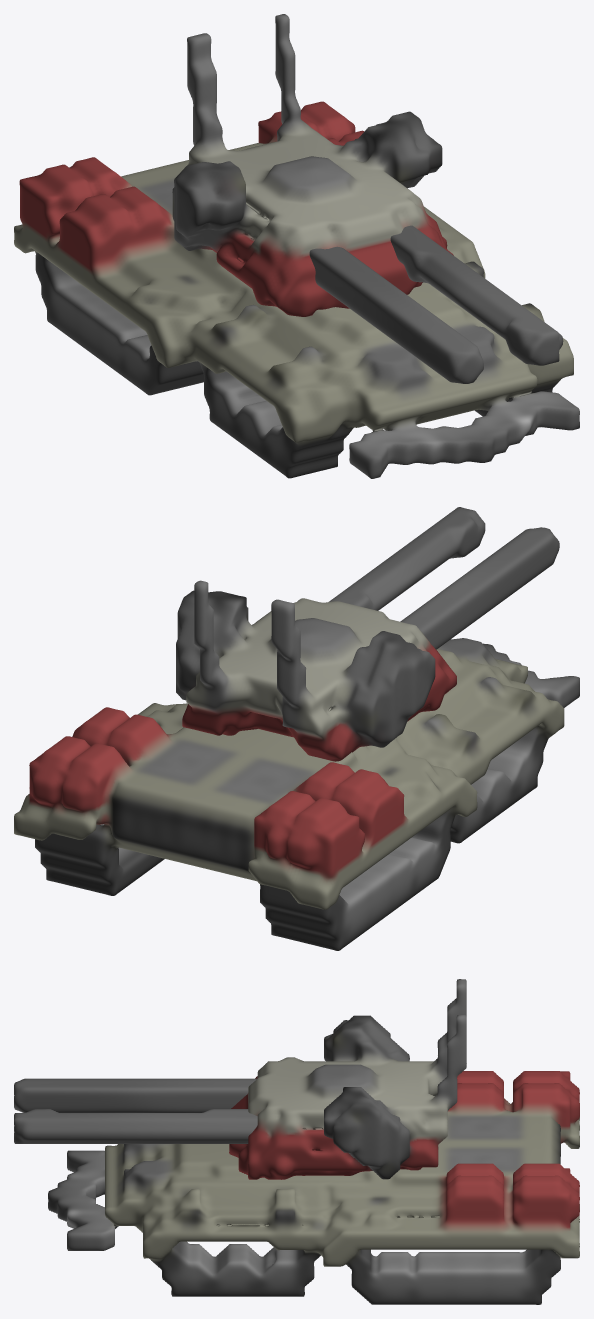
The model's file is apocalypse_tank.glb.
3 views of the same model, one above another, from view 1: azimuth 30°, elevation 25°; view 2: azimuth 150°, elevation 25°; view 3: azimuth 270°, elevation 25° (orthographic). The views are drawn at different scales.
Parts seen in each view (by area): view 1: apocalypse_tank; view 2: apocalypse_tank; view 3: apocalypse_tank.
Boxes of the visible parts, box(x1,y1,x2,y2) form: apocalypse_tank: box(14, 14, 579, 478); apocalypse_tank: box(14, 507, 579, 950); apocalypse_tank: box(14, 979, 579, 1304).
Bounding box in the file's own units: 2.65 × 2.35 × 4.91.
